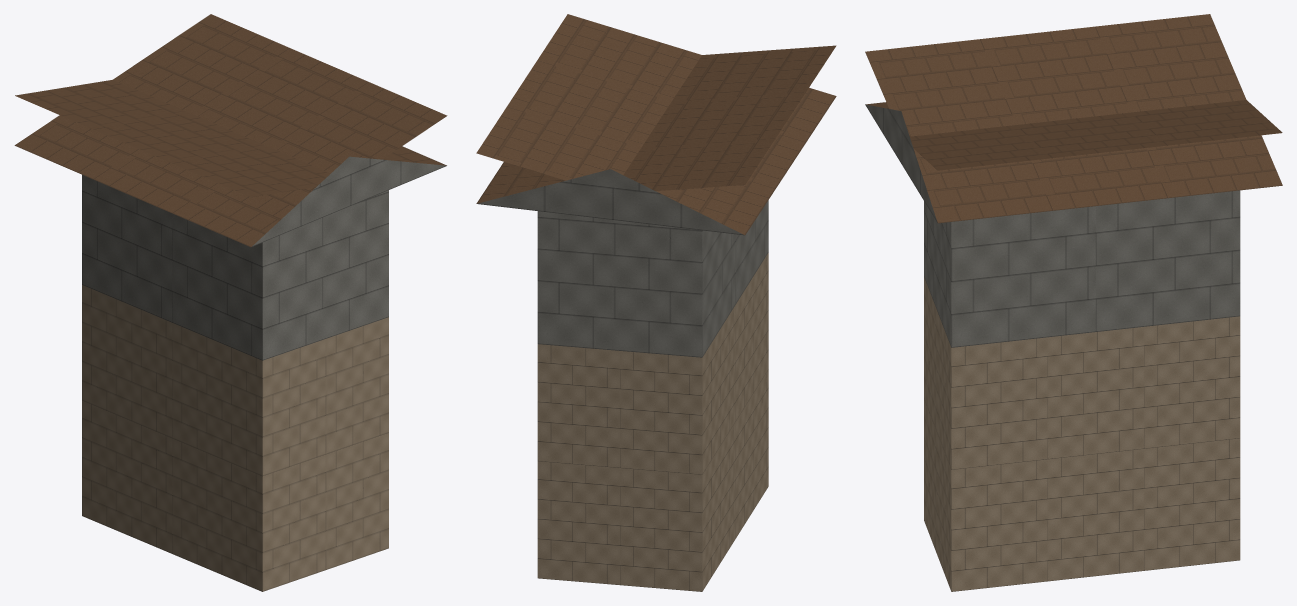
Rendered from bld_c6_9_476.gltf.
The picture shows the model from 3 angles, left to right: view 1: azimuth 30°, elevation 25°; view 2: azimuth 150°, elevation 25°; view 3: azimuth 270°, elevation 25°; orthographic projection. The views are drawn at different scales.
Parts seen in each view (by area): view 1: bld_c6_9_476; view 2: bld_c6_9_476; view 3: bld_c6_9_476.
Boxes of the visible parts, x1,y1,x2,y2 form: bld_c6_9_476: [14, 14, 447, 591]; bld_c6_9_476: [476, 14, 836, 591]; bld_c6_9_476: [865, 14, 1282, 591].
Size of the model in its own units: 6.37 by 8.5 by 7.18.
Materials: 4 (4 with a texture image).
